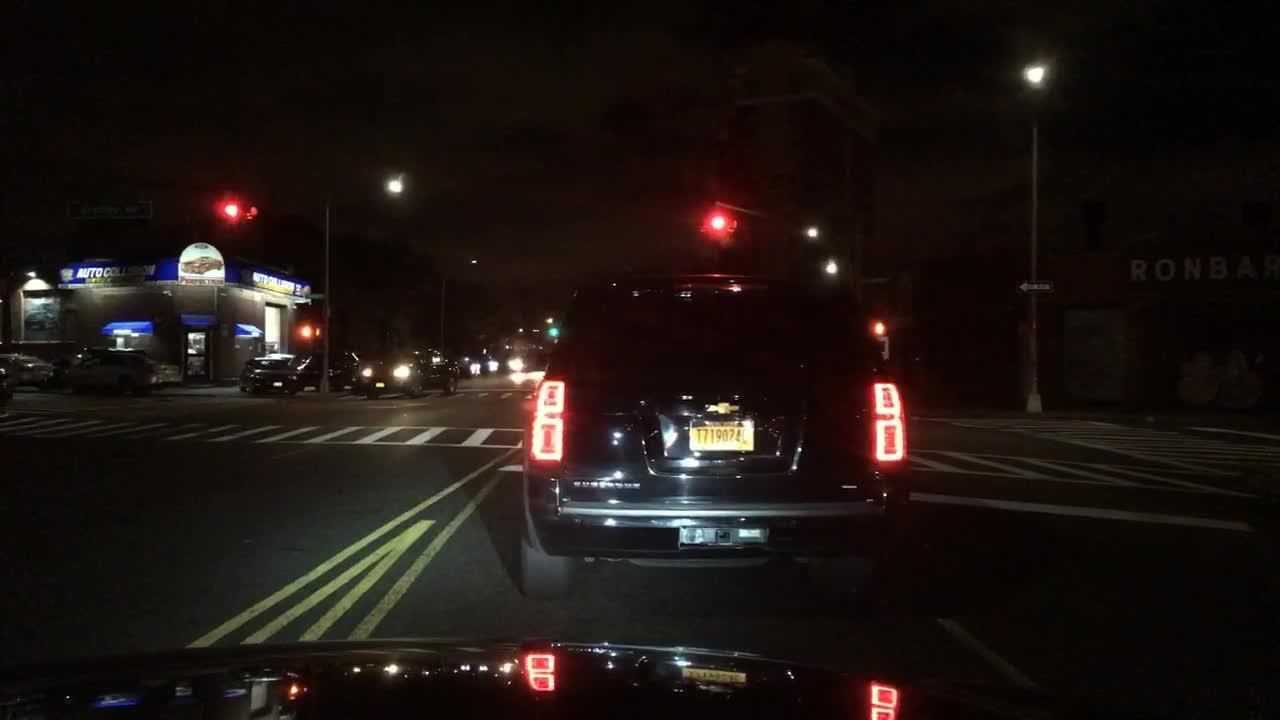chevrolet: (705, 397, 741, 420)
